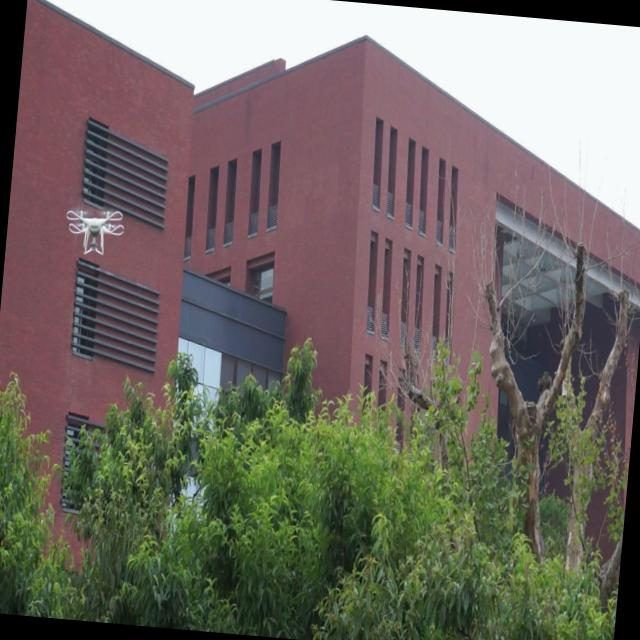drone: (62, 205, 126, 262)
